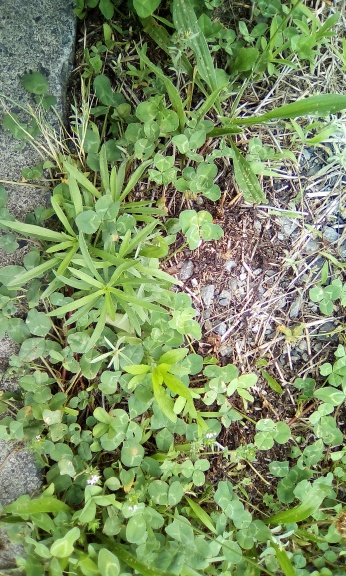4leaf: (178, 209, 223, 250)
